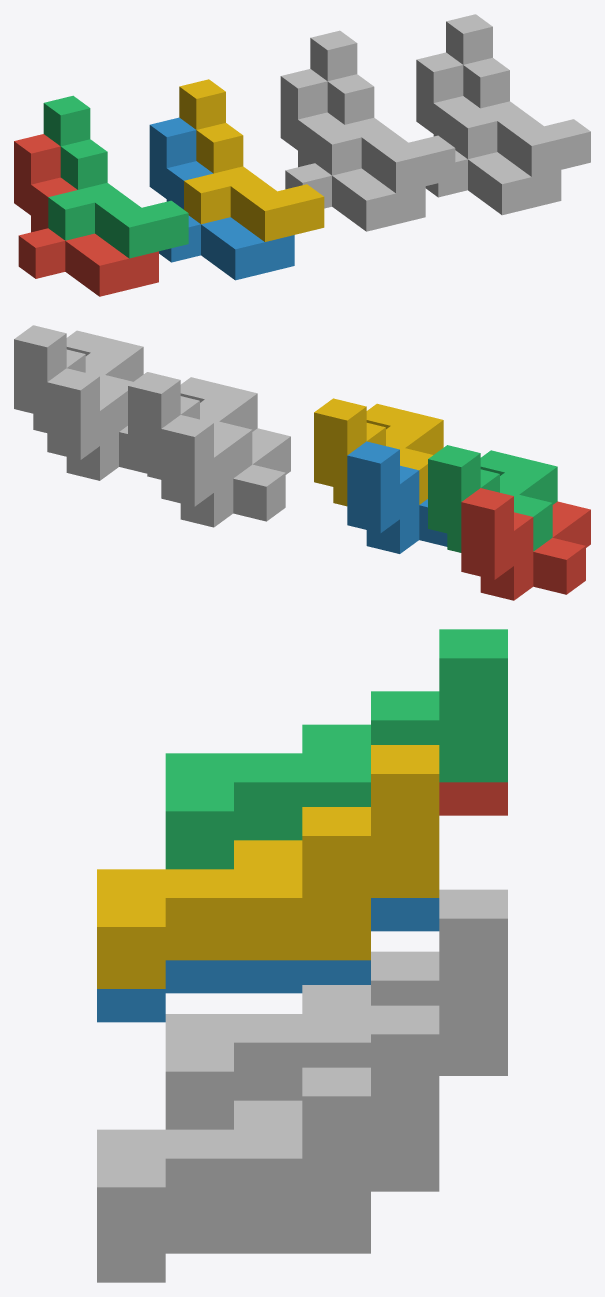
The model's file is tiling.obj.
3 renders of one model, top to bottom at view 1: azimuth 30°, elevation 25°; view 2: azimuth 150°, elevation 25°; view 3: azimuth 270°, elevation 25°, orthographic. The views are drawn at different scales.
Visible parts, largest first — view 1: copy_1_domain_3, copy_1_domain_7, copy_1_domain_4, copy_1_domain_8, copy_1_domain_1, copy_1_domain_5, copy_1_domain_2, copy_1_domain_6; view 2: copy_1_domain_1, copy_1_domain_5, copy_1_domain_7, copy_1_domain_3, copy_1_domain_4, copy_1_domain_8, copy_1_domain_2, copy_1_domain_6; view 3: copy_1_domain_8, copy_1_domain_4, copy_1_domain_3, copy_1_domain_7, copy_1_domain_6, copy_1_domain_2, copy_1_domain_1, copy_1_domain_5.
Boxes of the visible parts, x1,y1,x2,y2 form: copy_1_domain_3: (43, 95, 188, 258); copy_1_domain_7: (310, 30, 455, 193); copy_1_domain_4: (179, 79, 324, 241); copy_1_domain_8: (446, 14, 590, 176); copy_1_domain_1: (14, 134, 158, 296); copy_1_domain_5: (280, 69, 425, 231); copy_1_domain_2: (149, 117, 294, 280); copy_1_domain_6: (416, 52, 561, 215); copy_1_domain_1: (461, 488, 590, 600); copy_1_domain_5: (161, 415, 290, 527); copy_1_domain_7: (128, 372, 257, 479); copy_1_domain_3: (428, 445, 557, 552); copy_1_domain_4: (314, 398, 443, 506); copy_1_domain_8: (14, 325, 143, 432); copy_1_domain_2: (347, 441, 447, 553); copy_1_domain_6: (47, 368, 147, 480); copy_1_domain_8: (97, 1005, 439, 1249); copy_1_domain_4: (97, 745, 439, 988); copy_1_domain_3: (165, 629, 507, 869); copy_1_domain_7: (165, 889, 507, 1129); copy_1_domain_6: (97, 1158, 439, 1282); copy_1_domain_2: (97, 898, 439, 1022); copy_1_domain_1: (439, 782, 507, 815); copy_1_domain_5: (439, 1042, 507, 1075).
Size of the model in its own units: 17 by 4 by 6.
